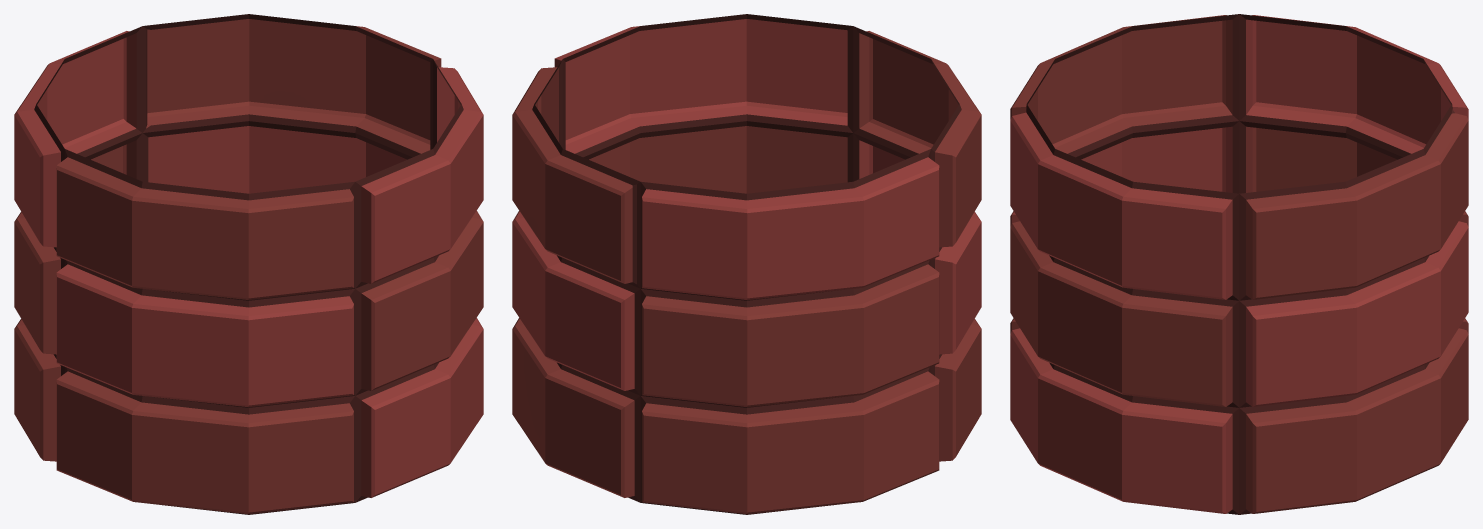
The model's file is Pillar Segment 3 Blocks.fbx.
3 renders of one model, left to right at view 1: azimuth 30°, elevation 25°; view 2: azimuth 150°, elevation 25°; view 3: azimuth 270°, elevation 25°, orthographic.
Visible parts, largest first — view 1: Pillar Segment 3 Blocks; view 2: Pillar Segment 3 Blocks; view 3: Pillar Segment 3 Blocks.
Part boxes in pixels (x1,y1,x2,y2): Pillar Segment 3 Blocks: (14, 14, 483, 514); Pillar Segment 3 Blocks: (512, 14, 981, 514); Pillar Segment 3 Blocks: (1010, 14, 1468, 514).
Bounding box in the file's own units: 196 × 150 × 194.
